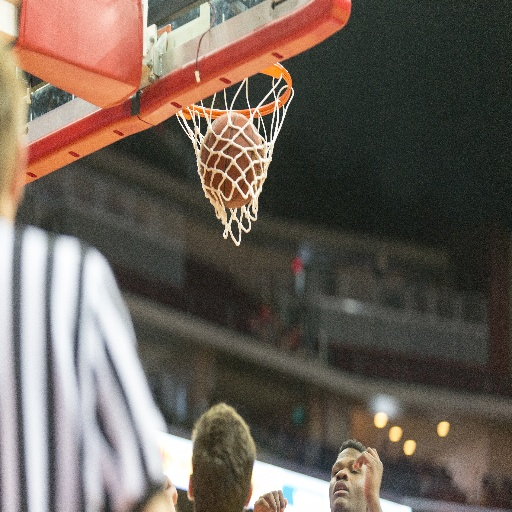hand: (353, 445, 382, 492), (253, 488, 288, 511), (162, 473, 179, 511)
